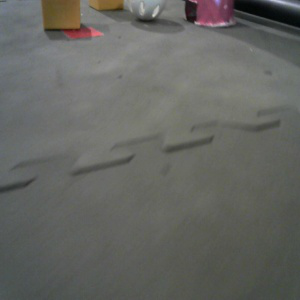right: (183, 1, 237, 27)
